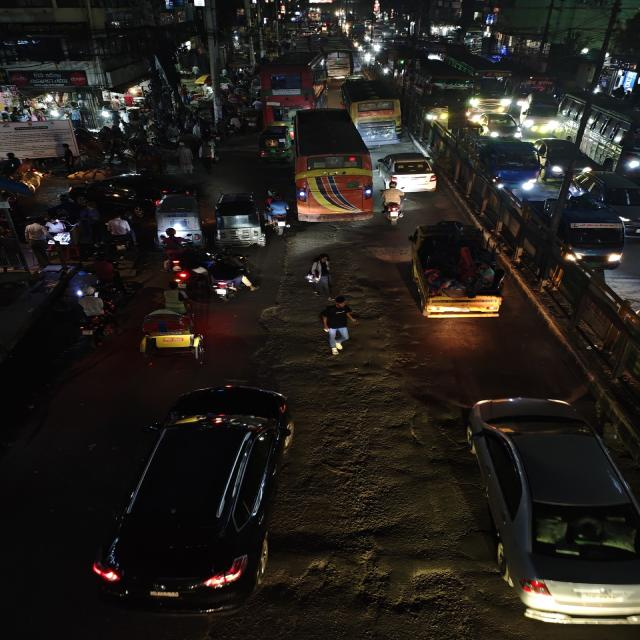bus: (292, 108, 374, 228), (560, 90, 640, 172), (403, 60, 475, 118), (340, 79, 405, 141), (260, 50, 327, 108), (451, 56, 512, 113), (323, 46, 360, 80)
car: (96, 379, 306, 623), (456, 393, 640, 624), (573, 170, 640, 236), (475, 136, 542, 192), (89, 174, 208, 202), (378, 147, 440, 195), (533, 136, 592, 176), (520, 91, 560, 135), (478, 111, 524, 139)
cng: (212, 191, 265, 249), (152, 192, 204, 236), (256, 124, 291, 164)
motorcycle: (198, 250, 249, 302), (71, 294, 118, 346), (153, 228, 193, 274), (302, 250, 336, 299), (89, 256, 126, 297), (377, 182, 408, 226), (265, 192, 292, 236)
pedestrian: (315, 296, 359, 357), (302, 251, 336, 299), (173, 142, 196, 175), (198, 139, 219, 171)
pickup_van: (402, 218, 507, 321), (542, 195, 626, 269)
rickshaw: (135, 302, 210, 364)
truck: (324, 48, 359, 80)
